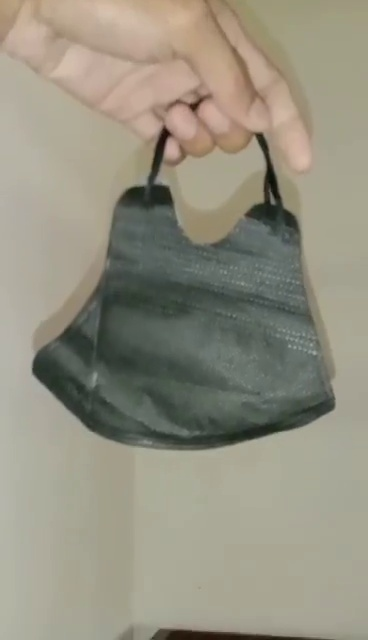facemask: (32, 94, 337, 450)
hand: (1, 1, 316, 174)
